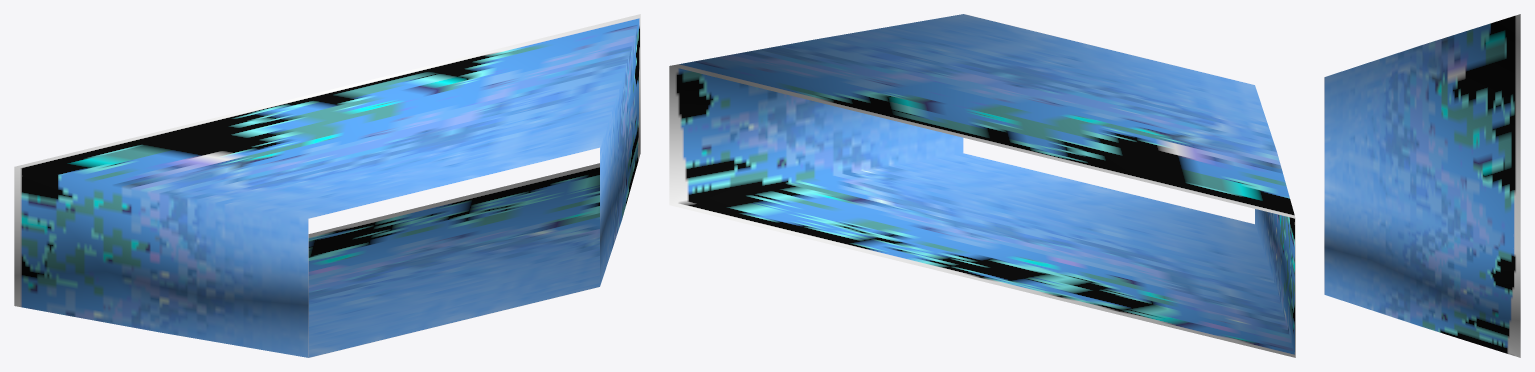
Rendered from men1.FBX.
The picture shows the model from 3 angles, left to right: view 1: azimuth 30°, elevation 25°; view 2: azimuth 150°, elevation 25°; view 3: azimuth 270°, elevation 25°; orthographic projection. The views are drawn at different scales.
Parts seen in each view (by area): view 1: men1; view 2: men1; view 3: men1.
Boxes of the visible parts, x1,y1,x2,y2 form: men1: [14, 14, 640, 357]; men1: [669, 14, 1295, 357]; men1: [1324, 14, 1520, 357].
Bounding box in the file's own units: 27.12 × 9.51 × 5.76.
